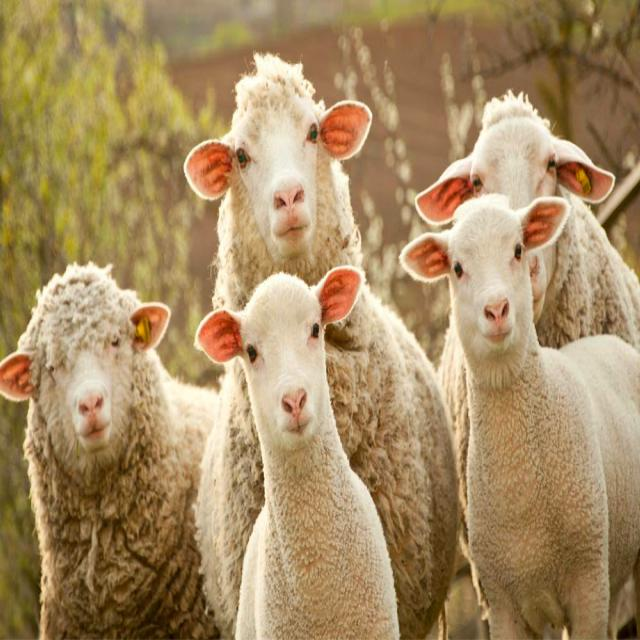sheep: (401, 194, 639, 639), (0, 262, 218, 639), (196, 266, 399, 639), (416, 91, 639, 349), (184, 53, 371, 308), (326, 277, 457, 637), (197, 362, 263, 637)
